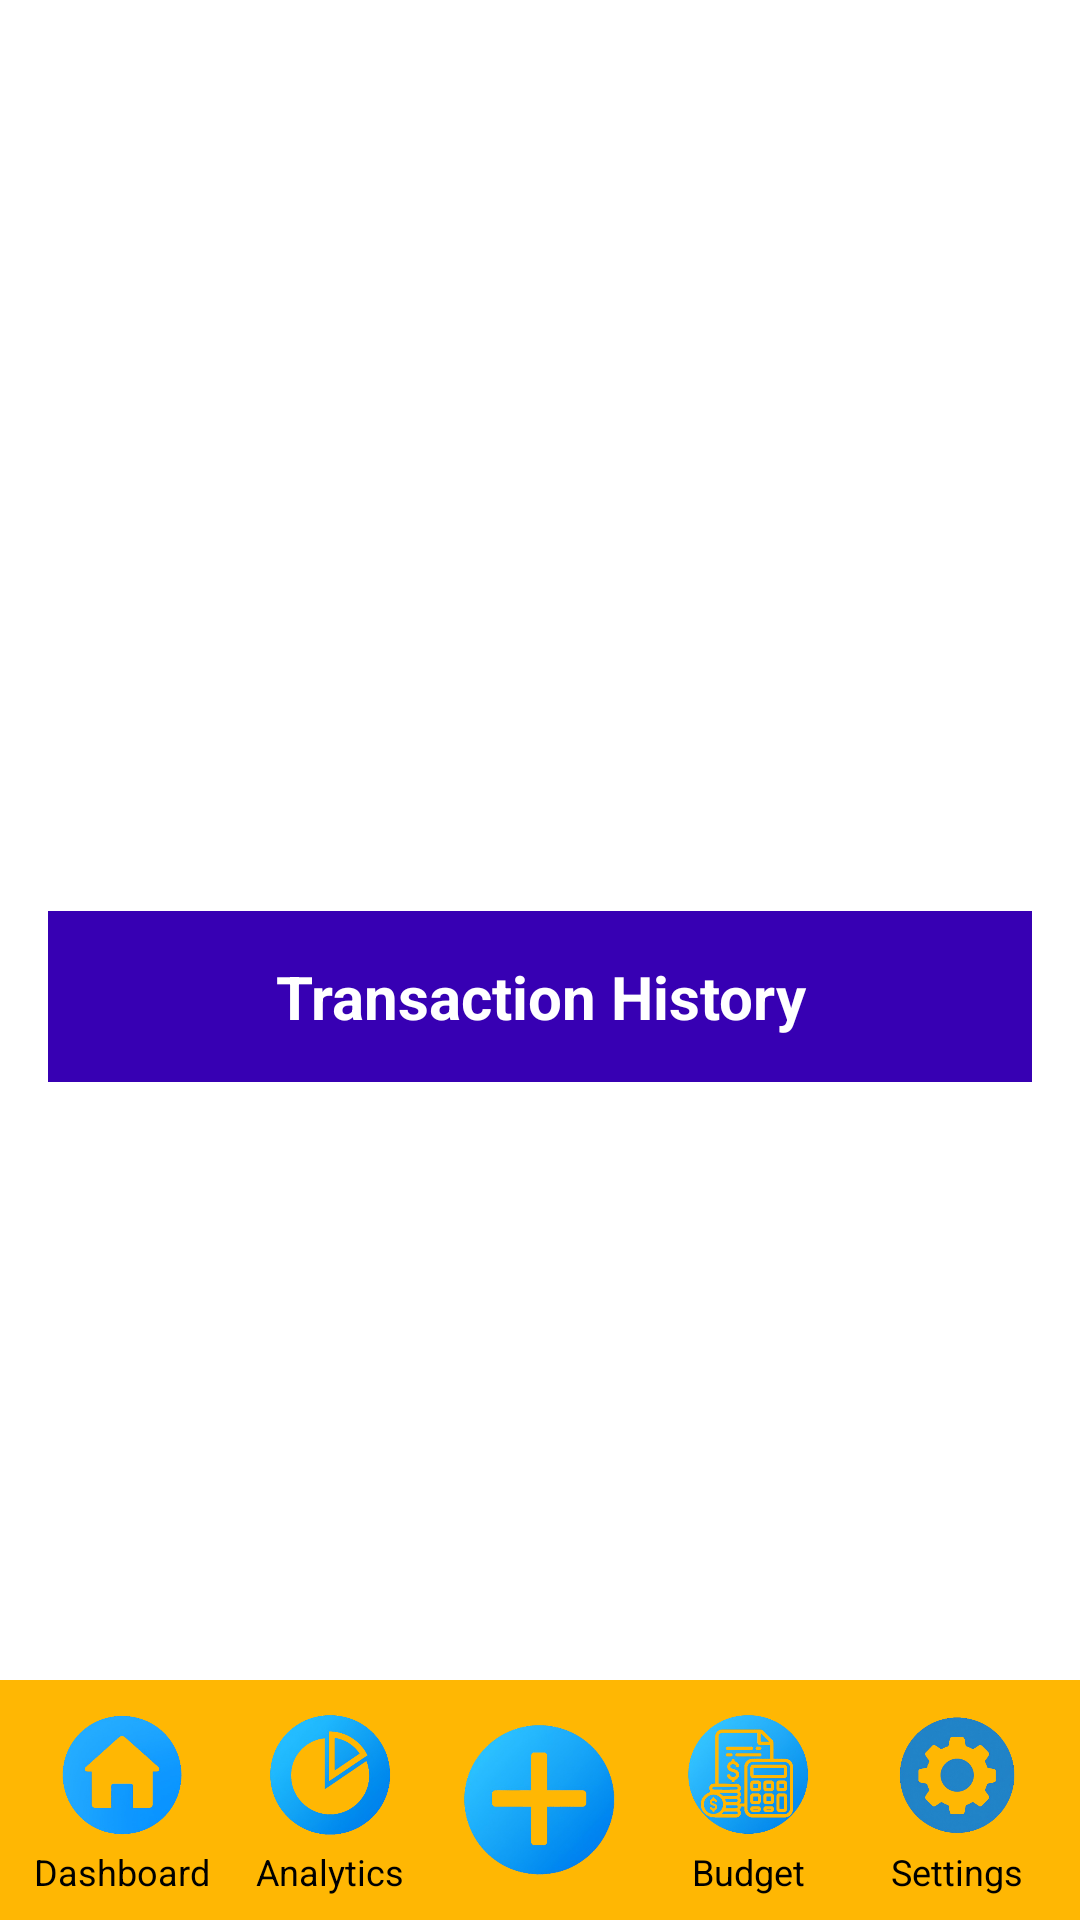

Named icons in this screenshot (1080w x 1920h) and their bounding boxes, (x1, y1, x2, y2):
Add: (464, 1725, 615, 1875)
Home: (62, 1716, 182, 1834)
